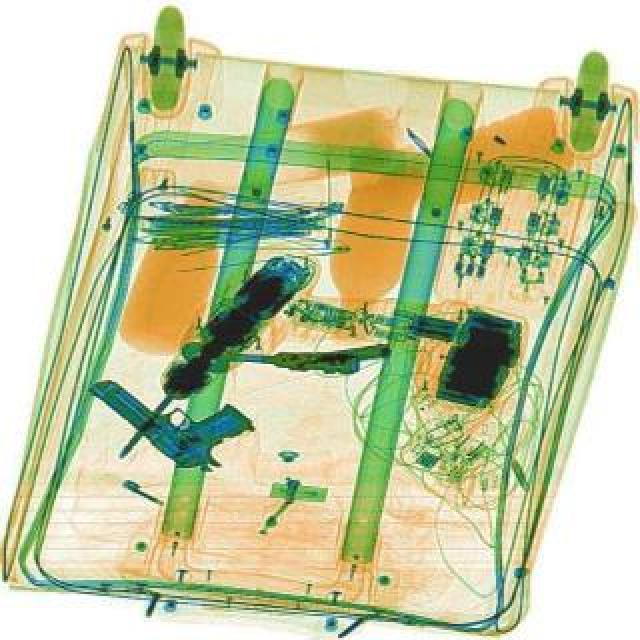gun: (90, 330, 266, 486), (224, 334, 394, 374)
